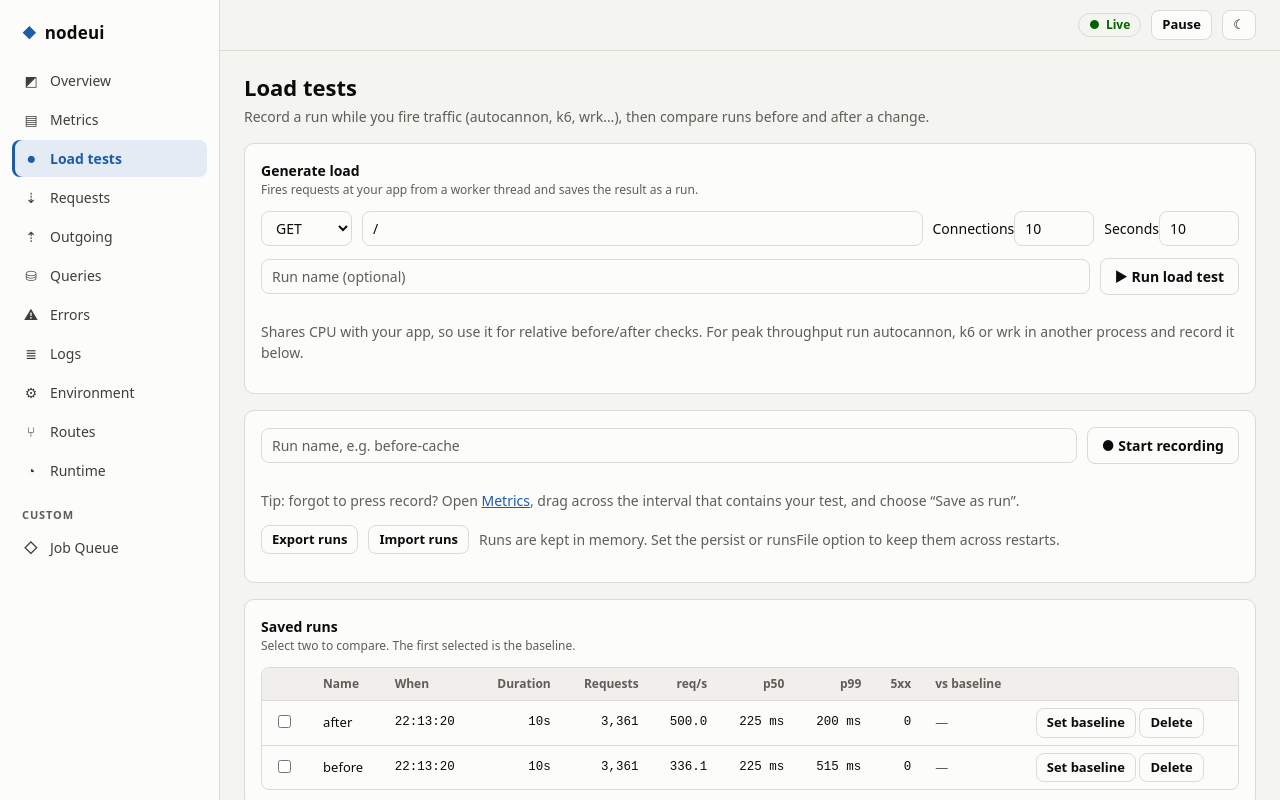
it: Load tests view › compares two selected runs with verdicts
The image size is (1280, 800).
Step 1. Click the checkbox named "Select before" → (284, 766), box [278, 760, 291, 772]
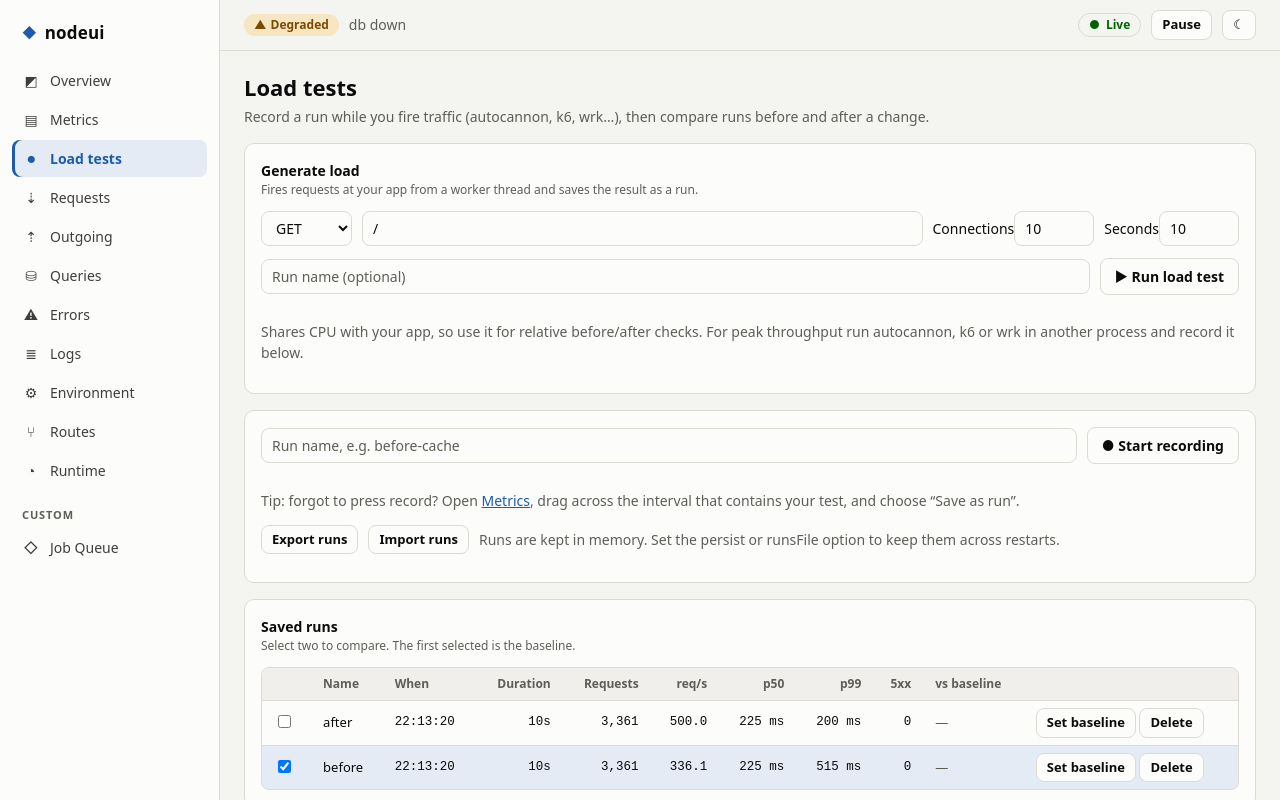
Step 2. Click the checkbox named "Select after" → (284, 722), box [278, 715, 291, 728]
(page scrolled)
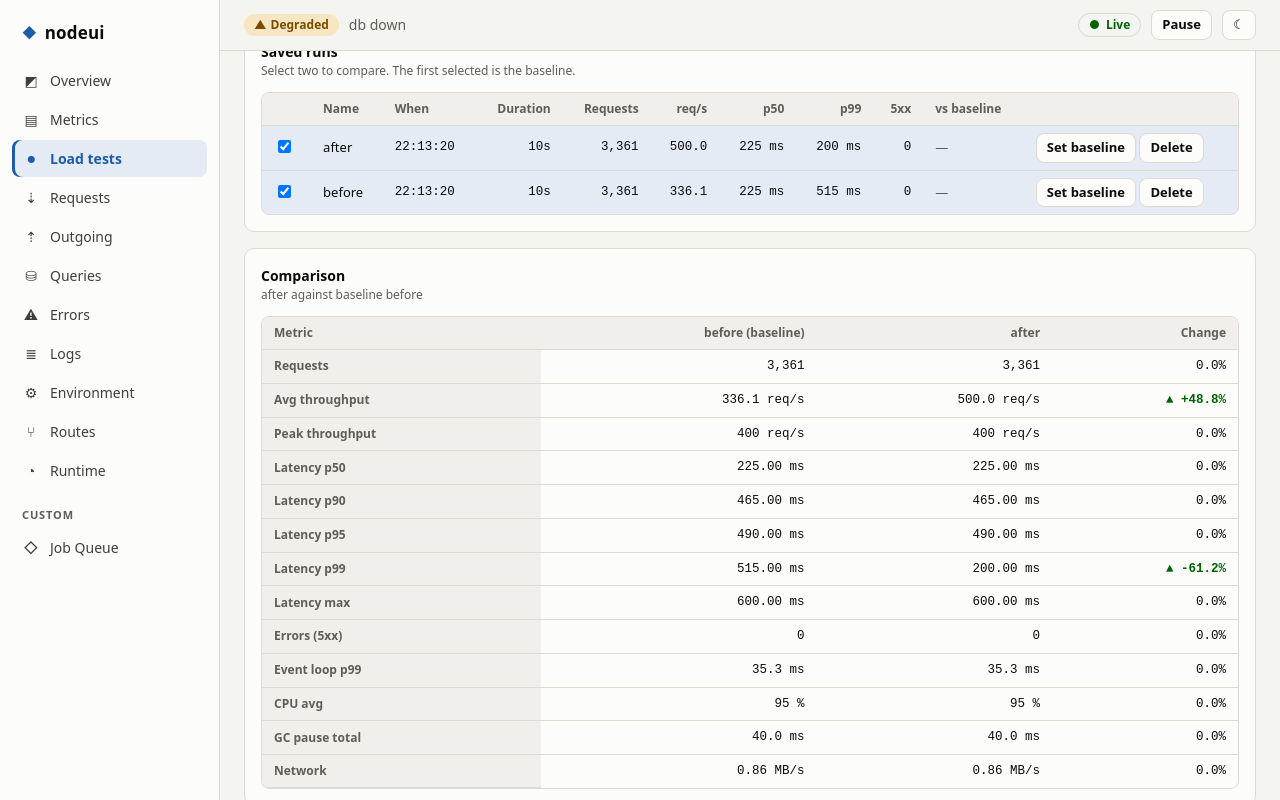
Check: the heading "Comparison" is shown, box [261, 266, 345, 285]
Check: the text "▲ -61.2%" is shown, box [1052, 552, 1238, 586]
Check: the text "▲ +48.8%" is shown, box [1052, 384, 1238, 418]
